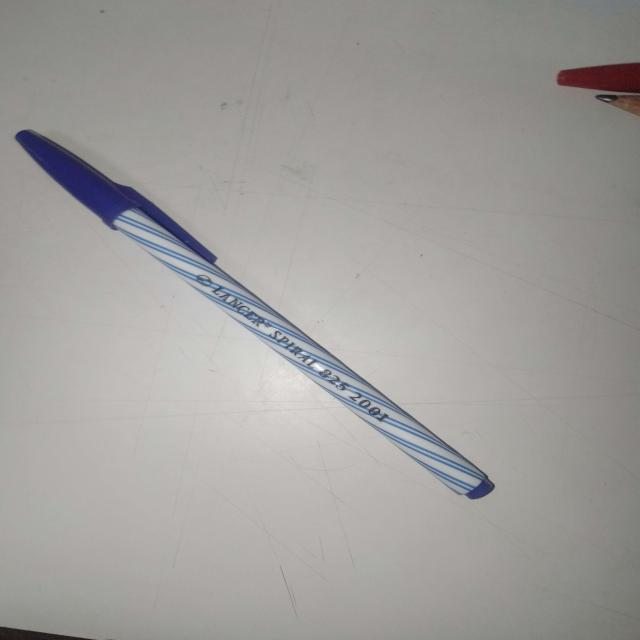pen_pencil: (9, 115, 511, 540)
